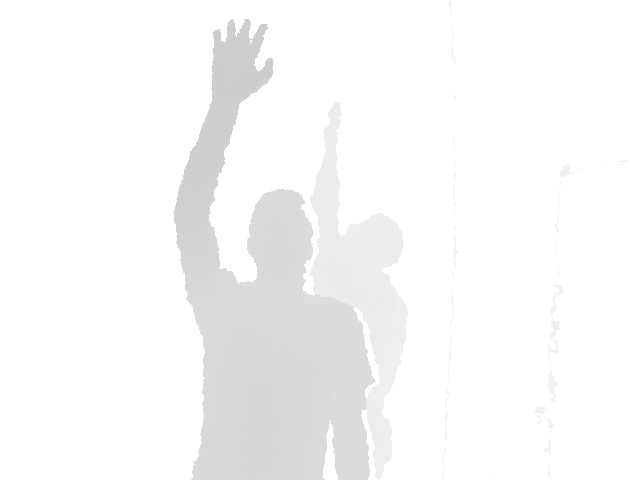hand: (209, 18, 274, 108), (322, 102, 341, 153)
head: (245, 187, 314, 295), (341, 212, 404, 273)
person: (171, 17, 376, 479), (310, 102, 407, 480)
